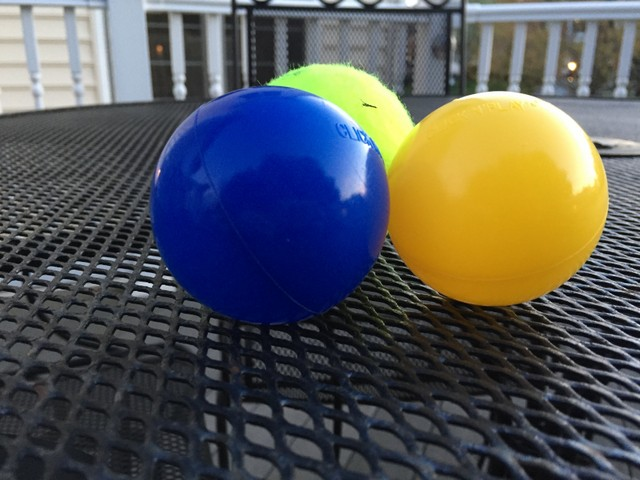Ball: (149, 87, 391, 325)
